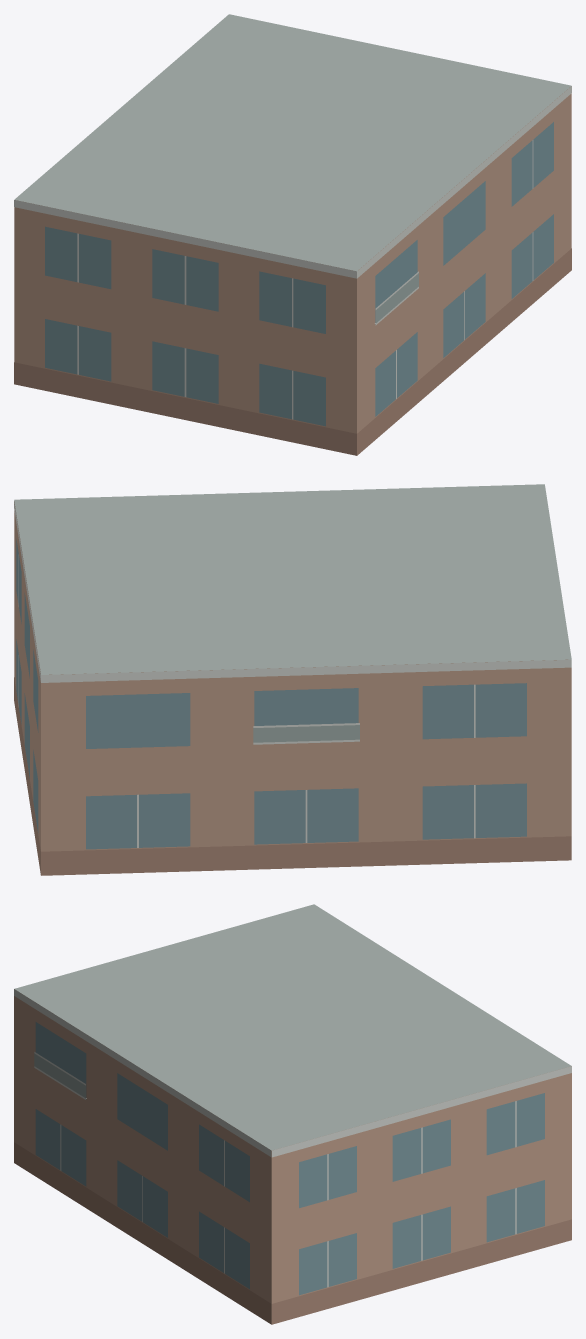
The model's file is survey-upis-32619287.glb.
The picture shows the model from 3 angles, top to bottom: view 1: azimuth 30°, elevation 25°; view 2: azimuth 150°, elevation 25°; view 3: azimuth 270°, elevation 25°; orthographic projection. The views are drawn at different scales.
Visible parts, largest first — view 1: survey-upis-32619287.tmp; view 2: survey-upis-32619287.tmp; view 3: survey-upis-32619287.tmp.
Part boxes in pixels (bbox=[...]): survey-upis-32619287.tmp: bbox=[14, 14, 571, 455]; survey-upis-32619287.tmp: bbox=[14, 484, 571, 875]; survey-upis-32619287.tmp: bbox=[14, 904, 571, 1324].
Bounding box in the file's own units: 18.53 × 6.1 × 17.72.
